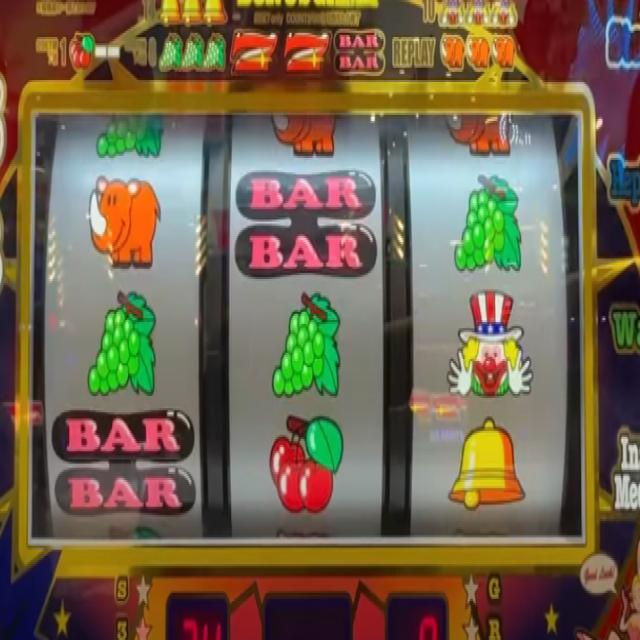bar: (51, 408, 195, 516), (233, 172, 378, 277), (334, 30, 386, 76)
bell: (450, 416, 524, 509), (157, 1, 182, 29), (204, 0, 227, 27), (183, 1, 203, 26)
cherry: (270, 418, 342, 508), (66, 32, 94, 74)
clown: (446, 289, 535, 403), (492, 0, 518, 35), (440, 0, 465, 30), (465, 2, 490, 32)
display: (34, 108, 586, 548)
elephant: (86, 174, 162, 267), (268, 114, 339, 152), (444, 118, 512, 156), (490, 32, 518, 72), (440, 34, 464, 72), (467, 32, 490, 70)
grape: (272, 292, 341, 403), (86, 288, 156, 395), (452, 174, 522, 277), (93, 116, 166, 160), (157, 32, 180, 72), (182, 31, 202, 71), (205, 29, 224, 70)
z: (231, 28, 278, 73), (286, 34, 325, 74)
